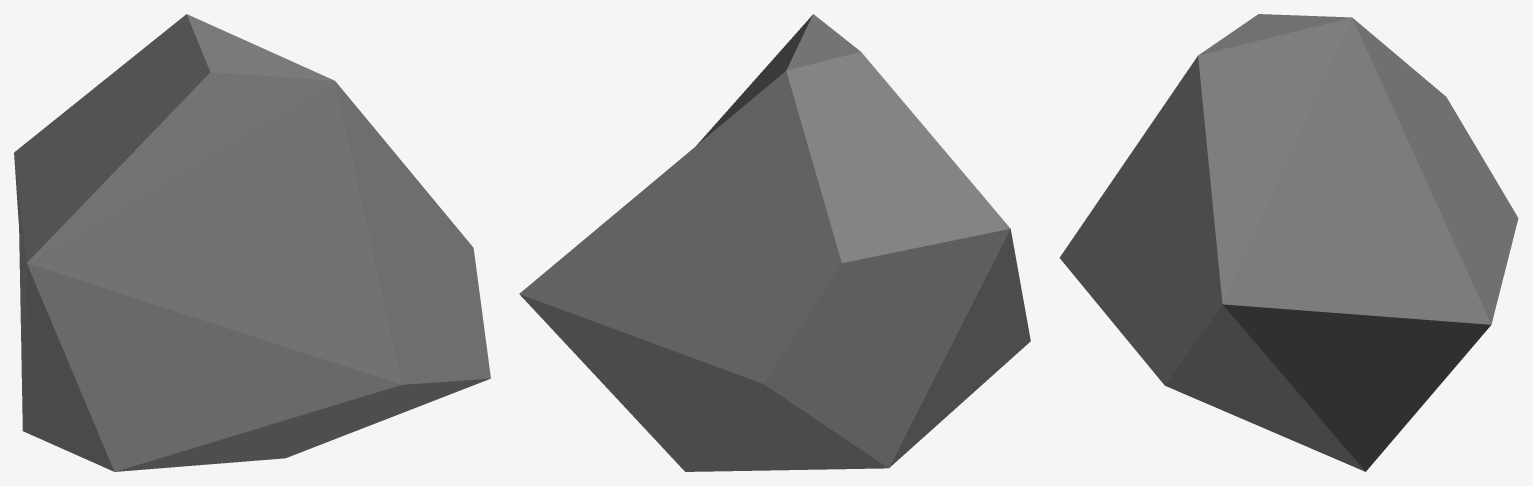
Rendered from stone.fbx.
3 renders of one model, left to right at view 1: azimuth 30°, elevation 25°; view 2: azimuth 150°, elevation 25°; view 3: azimuth 270°, elevation 25°, orthographic. The views are drawn at different scales.
Visible parts, largest first — view 1: stone; view 2: stone; view 3: stone.
Boxes of the visible parts, bbox=[...] form: stone: bbox=[14, 14, 490, 471]; stone: bbox=[519, 14, 1030, 471]; stone: bbox=[1059, 14, 1518, 471].
Bounding box in the file's own units: 56.28 × 59.56 × 60.48.
